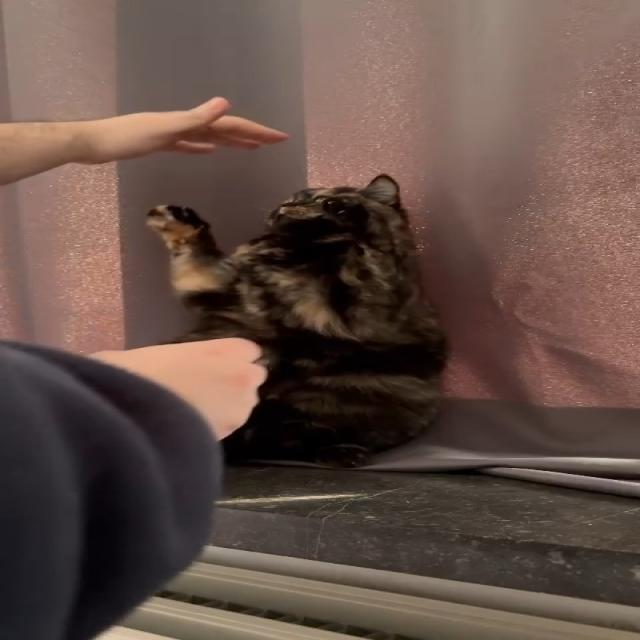authorized: (142, 173, 450, 469)
